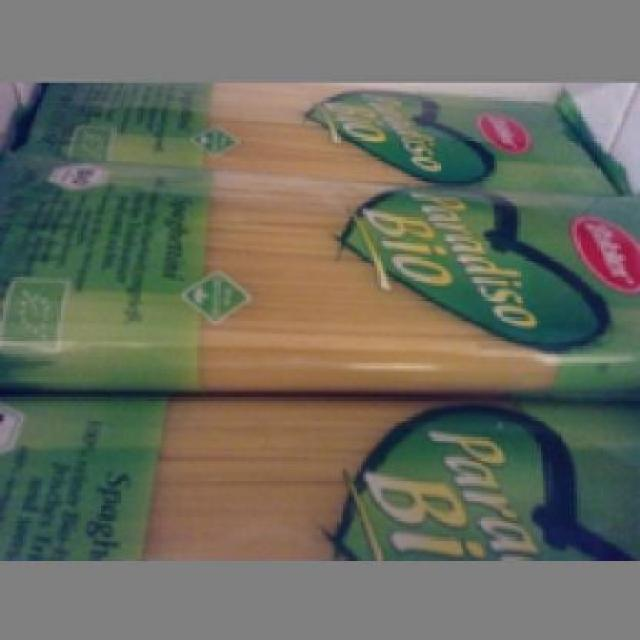Pasta: (0, 148, 637, 394), (0, 386, 637, 554), (8, 83, 624, 186)
